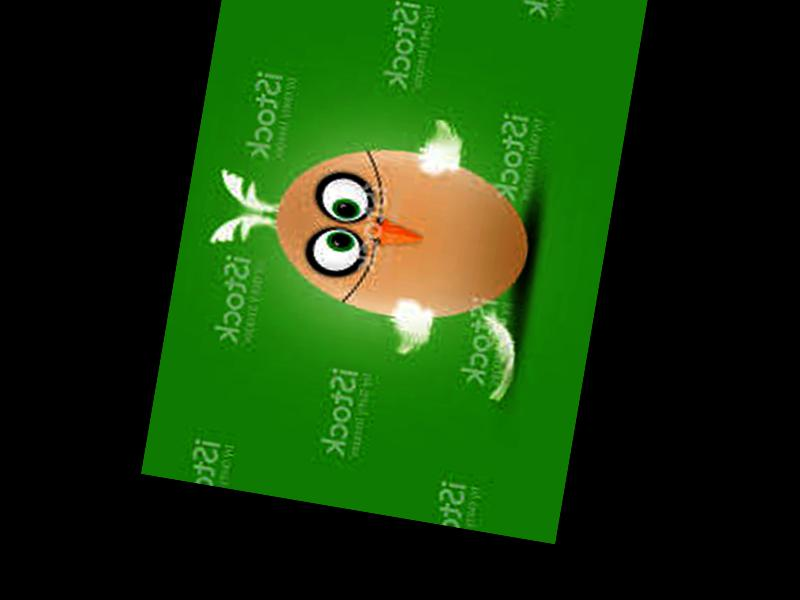Eggs: (262, 133, 543, 337)
